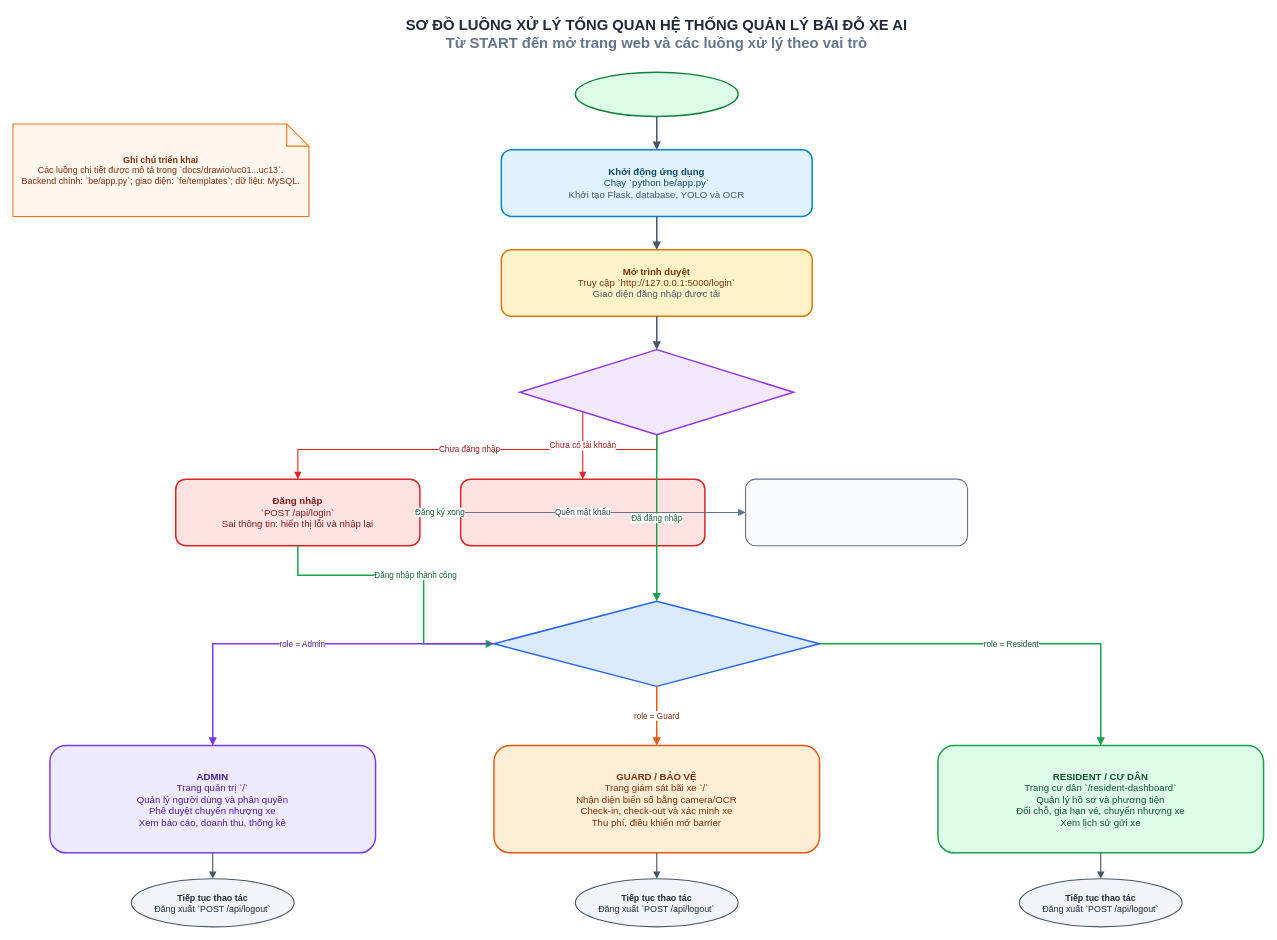
The diagram is 1277 pixels wide and 940 high, and some of its shapes have lost their labels. The centre of each missing label's shape, as x and y in pixels:
"Kiểm tra phiên đăng nhập `GET /api/session` hoặc nhập thông tin đăng nhập" belongs at point 656,392.
"Quên mật khẩu? Nhập email - OTP - mật khẩu mới" belongs at point 856,512.
"START" belongs at point 656,94.
"Xác định vai trò `session['user']['role']`" belongs at point 656,643.
"Đăng ký tài khoản `POST /api/register` Thành công: chuyển sang đăng nhập" belongs at point 582,512.
